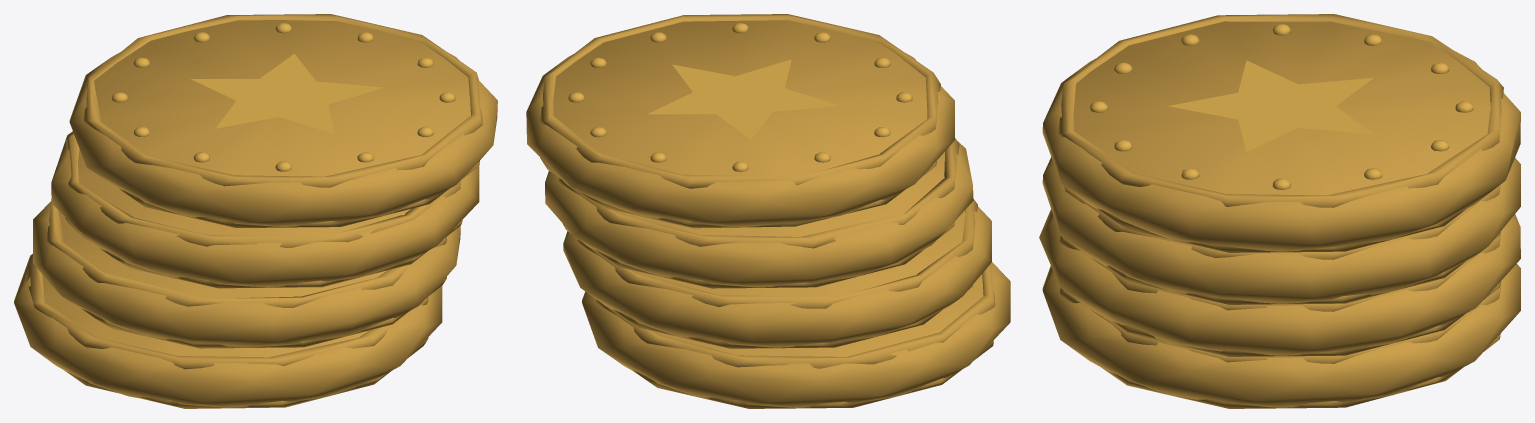
File: coins.glb
The picture shows the model from 3 angles, left to right: view 1: azimuth 30°, elevation 25°; view 2: azimuth 150°, elevation 25°; view 3: azimuth 270°, elevation 25°; orthographic projection. The views are drawn at different scales.
Visible parts, largest first — view 1: Crafted_brass, Crafted_gold; view 2: Crafted_brass, Crafted_gold; view 3: Crafted_brass, Crafted_gold.
Boxes of the visible parts, x1,y1,x2,y2 form: Crafted_brass: (14,14,497,408); Crafted_gold: (112,23,455,171); Crafted_brass: (526,14,1010,408); Crafted_gold: (568,23,912,171); Crafted_brass: (1039,14,1520,408); Crafted_gold: (1090,24,1473,189).
Size of the model in its own units: 0.5295 by 0.2608 by 0.464.
